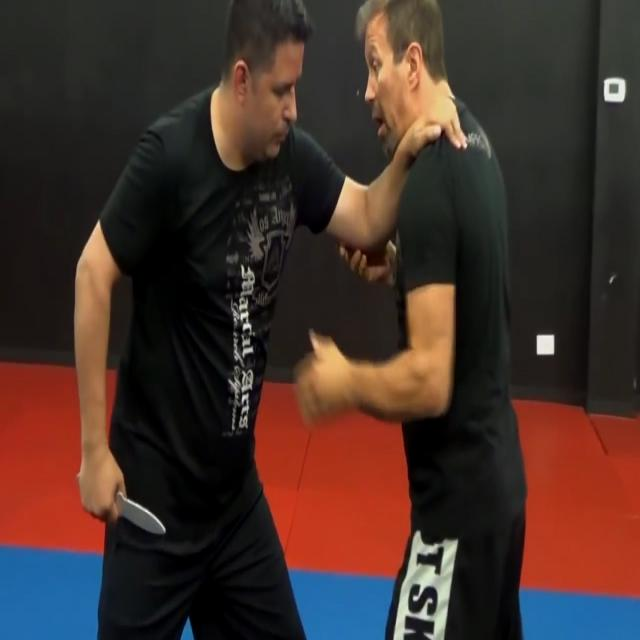knife: (114, 483, 172, 545)
